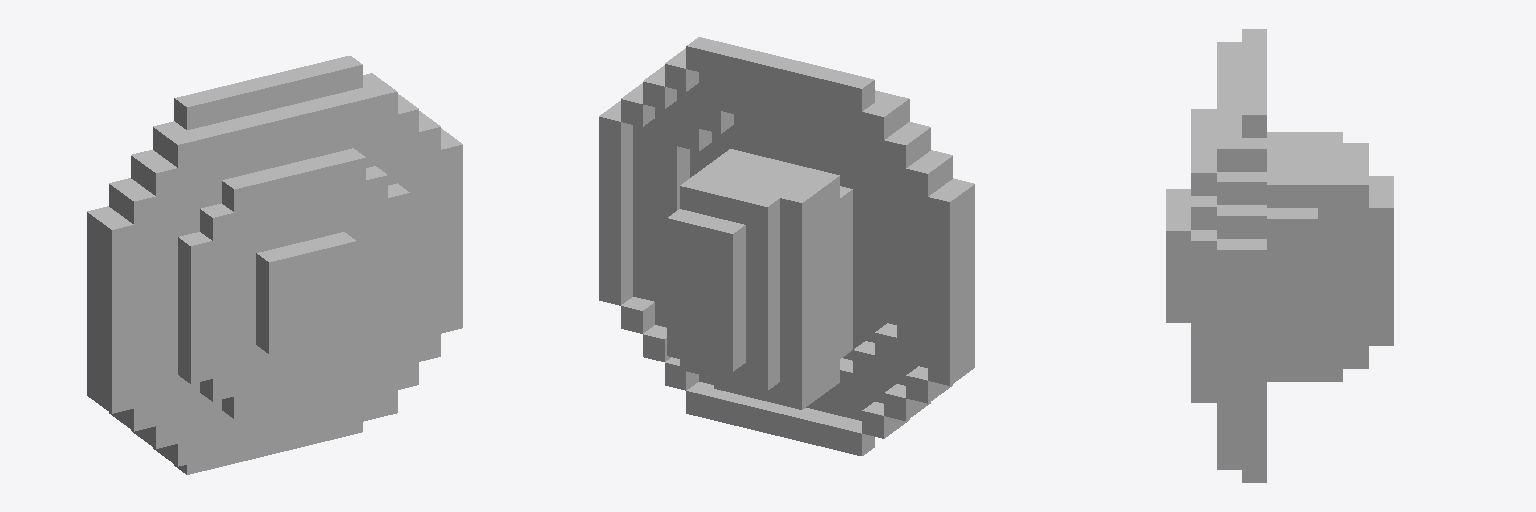
File: cogiendo_Rodela.obj
The picture shows the model from 3 angles: view 1: azimuth 30°, elevation 25°; view 2: azimuth 150°, elevation 25°; view 3: azimuth 270°, elevation 25°; orthographic projection.
Visible parts, largest first — view 1: object 1; view 2: object 1; view 3: object 1.
Boxes of the visible parts, <box> form: object 1: <box>87,56,462,474</box>; object 1: <box>599,37,974,455</box>; object 1: <box>1166,29,1393,482</box>.
Bounding box in the file's own units: 1.6 × 1.6 × 0.9.